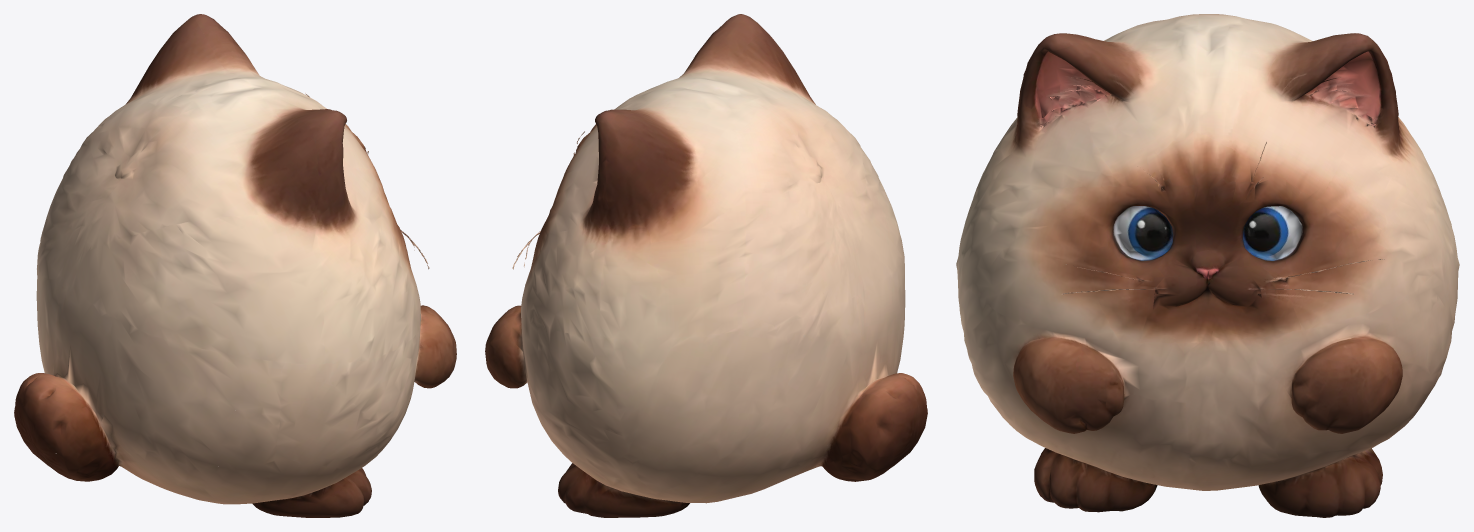
File: CAT_L06.glb
3 views of the same model, side by side, from view 1: azimuth 30°, elevation 25°; view 2: azimuth 150°, elevation 25°; view 3: azimuth 270°, elevation 25° (orthographic). The views are drawn at different scales.
Parts seen in each view (by area): view 1: tripo_node_2eaeca69-866f-4f88-96a9-7753ccfca8d0; view 2: tripo_node_2eaeca69-866f-4f88-96a9-7753ccfca8d0; view 3: tripo_node_2eaeca69-866f-4f88-96a9-7753ccfca8d0.
Boxes of the visible parts, bbox=[...] form: tripo_node_2eaeca69-866f-4f88-96a9-7753ccfca8d0: bbox=[14, 14, 456, 517]; tripo_node_2eaeca69-866f-4f88-96a9-7753ccfca8d0: bbox=[485, 14, 927, 517]; tripo_node_2eaeca69-866f-4f88-96a9-7753ccfca8d0: bbox=[956, 14, 1459, 517].
Bounding box in the file's own units: 0.9363 × 0.9794 × 0.9784.
1 material, 1 textured.
